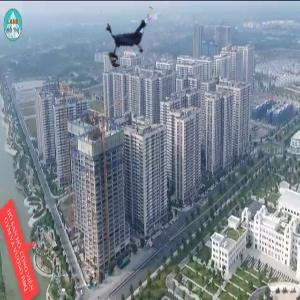drone: (102, 3, 161, 62)
